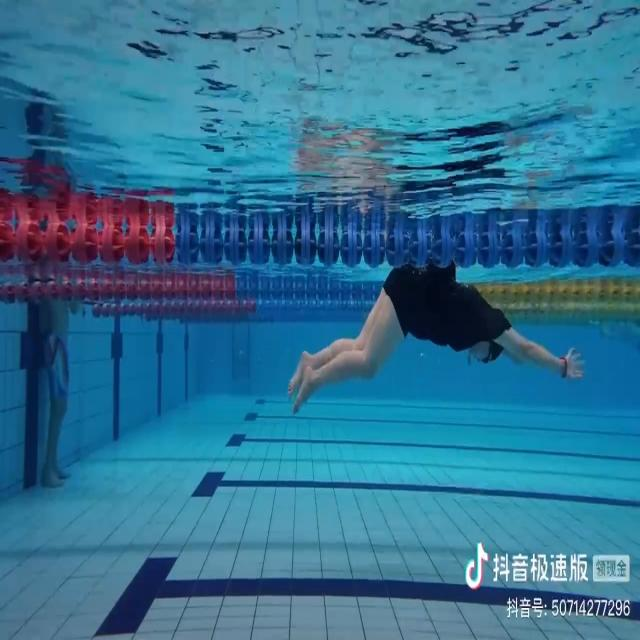Swimming: (288, 273, 586, 415)
